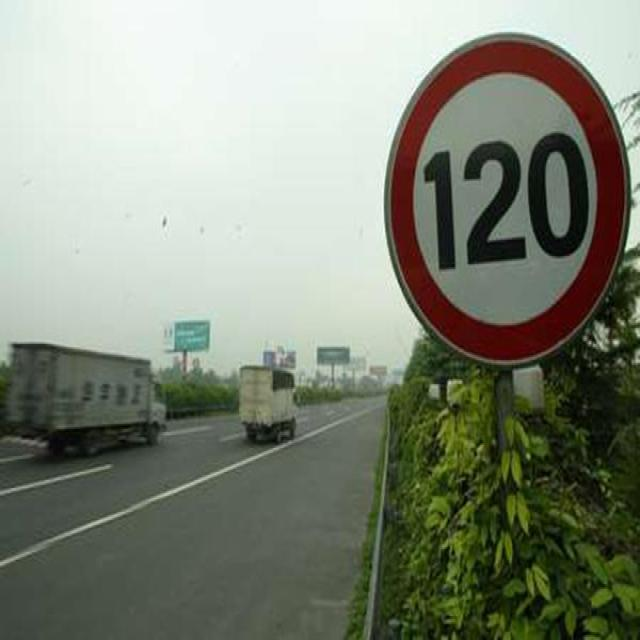speed limit 120: (383, 30, 631, 371)
